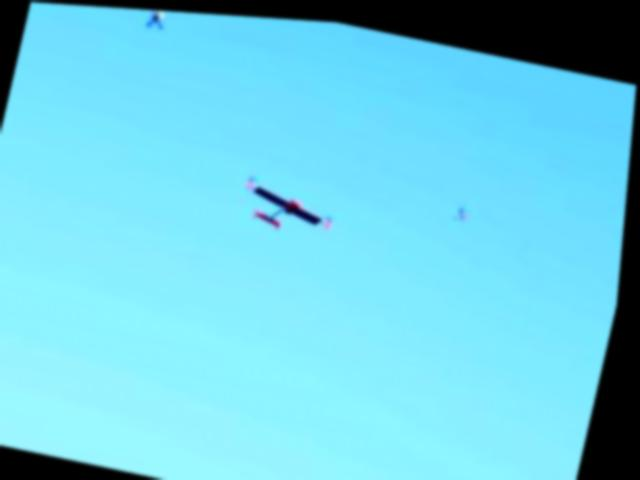uav: (233, 156, 349, 248)
